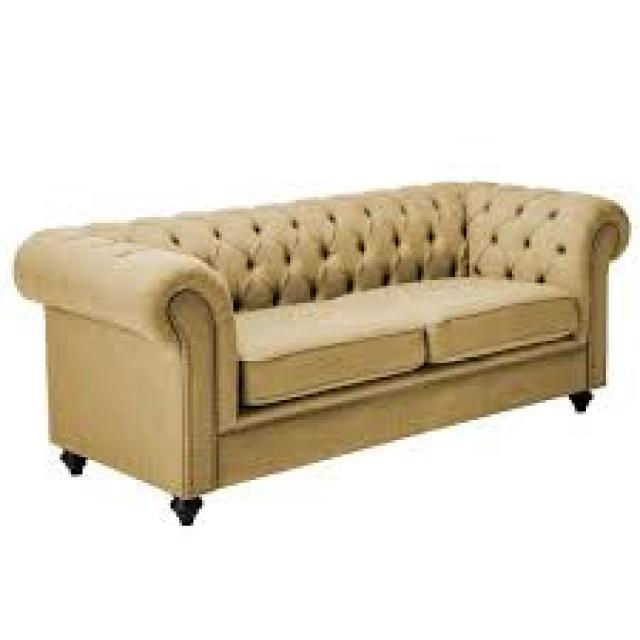sofa: (11, 177, 628, 526)
